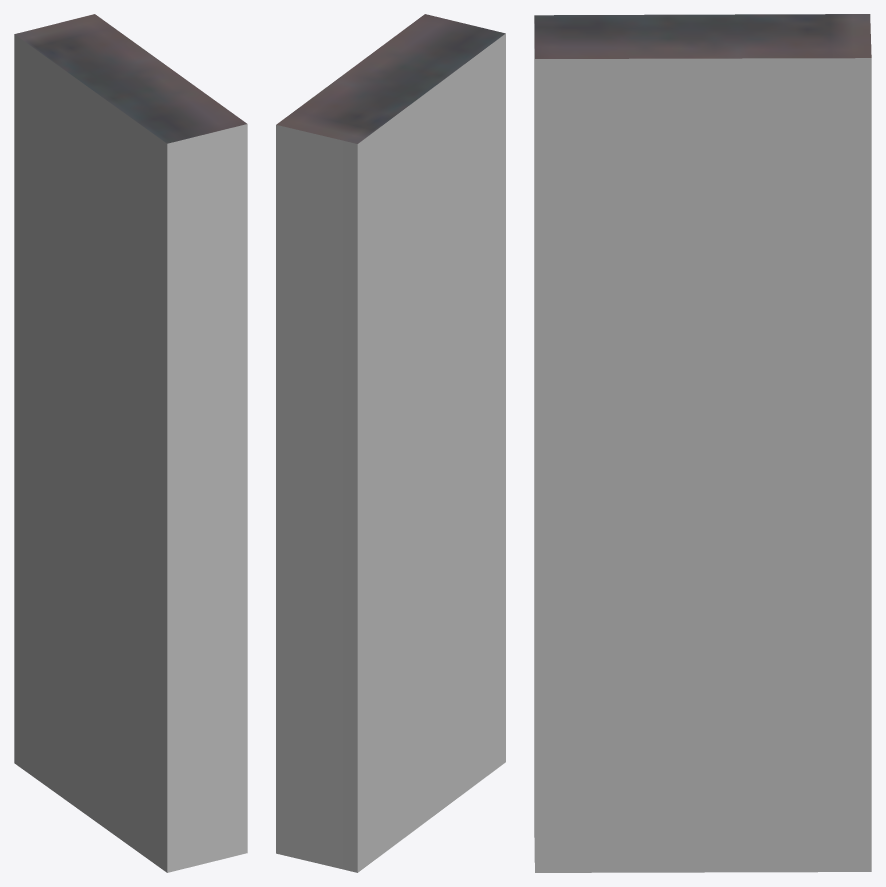
Rendered from DEBW_0010007THWl.gltf.
3 renders of one model, left to right at view 1: azimuth 30°, elevation 25°; view 2: azimuth 150°, elevation 25°; view 3: azimuth 270°, elevation 25°, orthographic. The views are drawn at different scales.
Parts seen in each view (by area): view 1: Z_UP; view 2: Z_UP; view 3: Z_UP.
Part boxes in pixels (x1=…): Z_UP: x1=14, y1=14, x2=247, y2=872; Z_UP: x1=276, y1=14, x2=505, y2=872; Z_UP: x1=534, y1=14, x2=871, y2=872.
Size of the model in its own units: 1.82 by 15.31 by 5.75.
2 materials, 1 textured.
